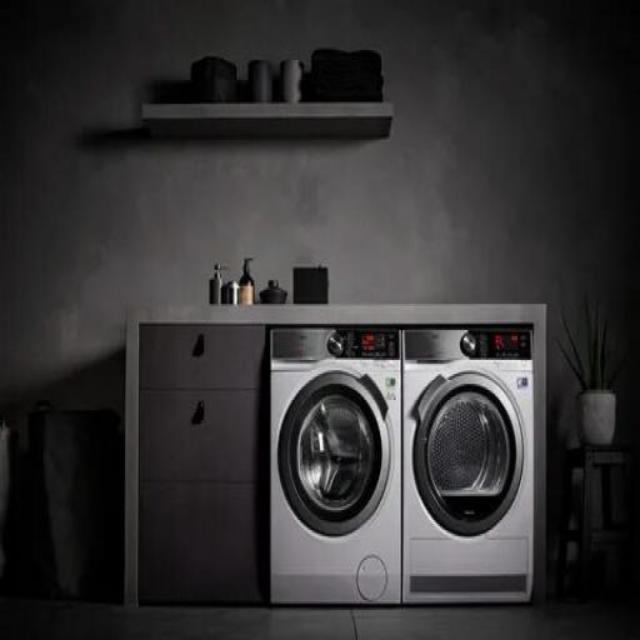Washing-Machine: (268, 327, 400, 607), (400, 326, 530, 602)
